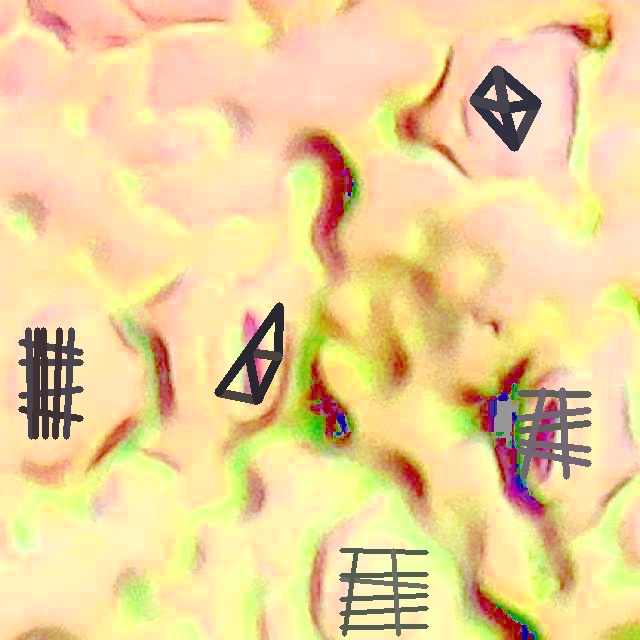close: (339, 548, 428, 636), (18, 327, 83, 439), (469, 65, 540, 150)
open: (214, 302, 282, 403), (517, 387, 591, 478)
